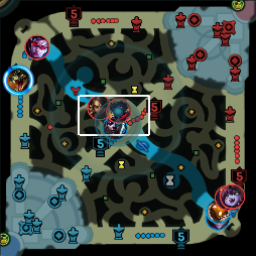bard: (205, 200, 230, 223)
ekko: (103, 115, 127, 140)
ezreal: (206, 205, 229, 229)
lulu: (220, 184, 244, 208)
nidalee: (87, 95, 110, 118)
renekton: (5, 66, 31, 93)
vayne: (24, 34, 49, 59)
viktor: (106, 99, 130, 123)
